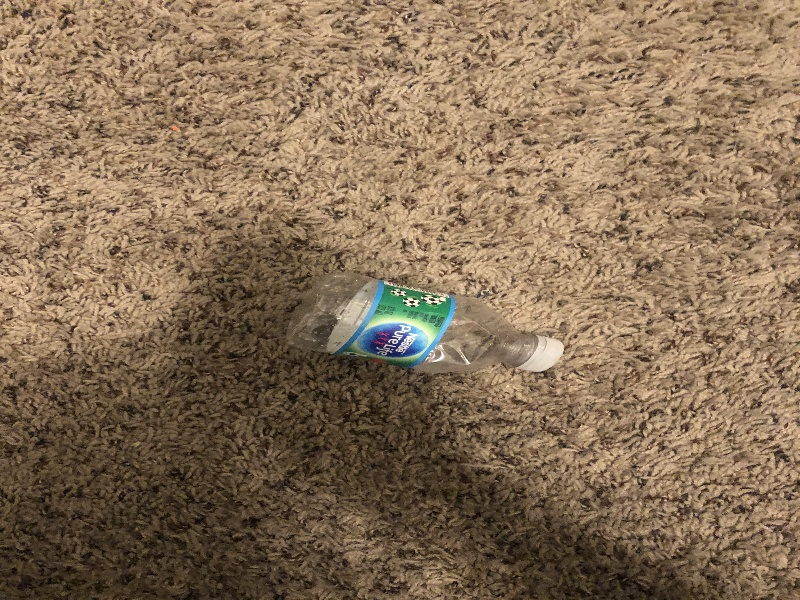plastic: (279, 265, 569, 380)
